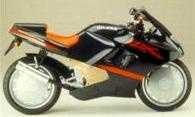motorcycle: (2, 9, 192, 112)
